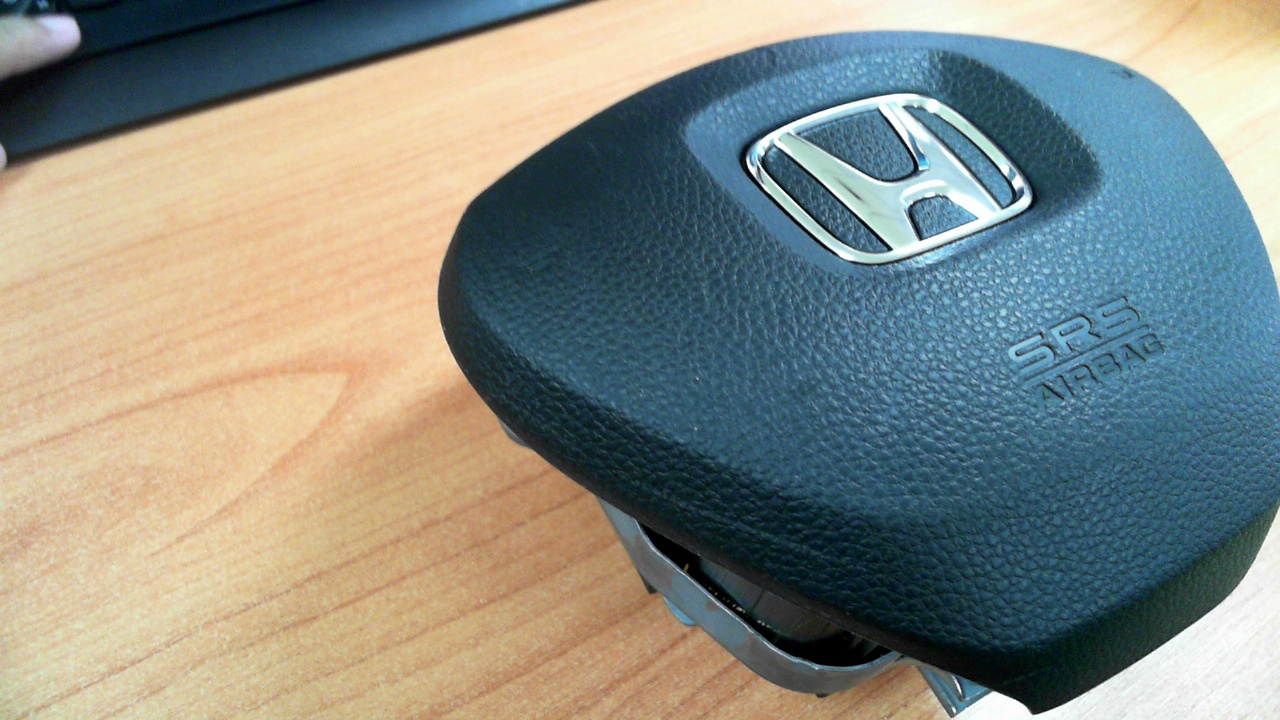Airbag: (437, 30, 1280, 716)
Honda: (739, 93, 1032, 265)
